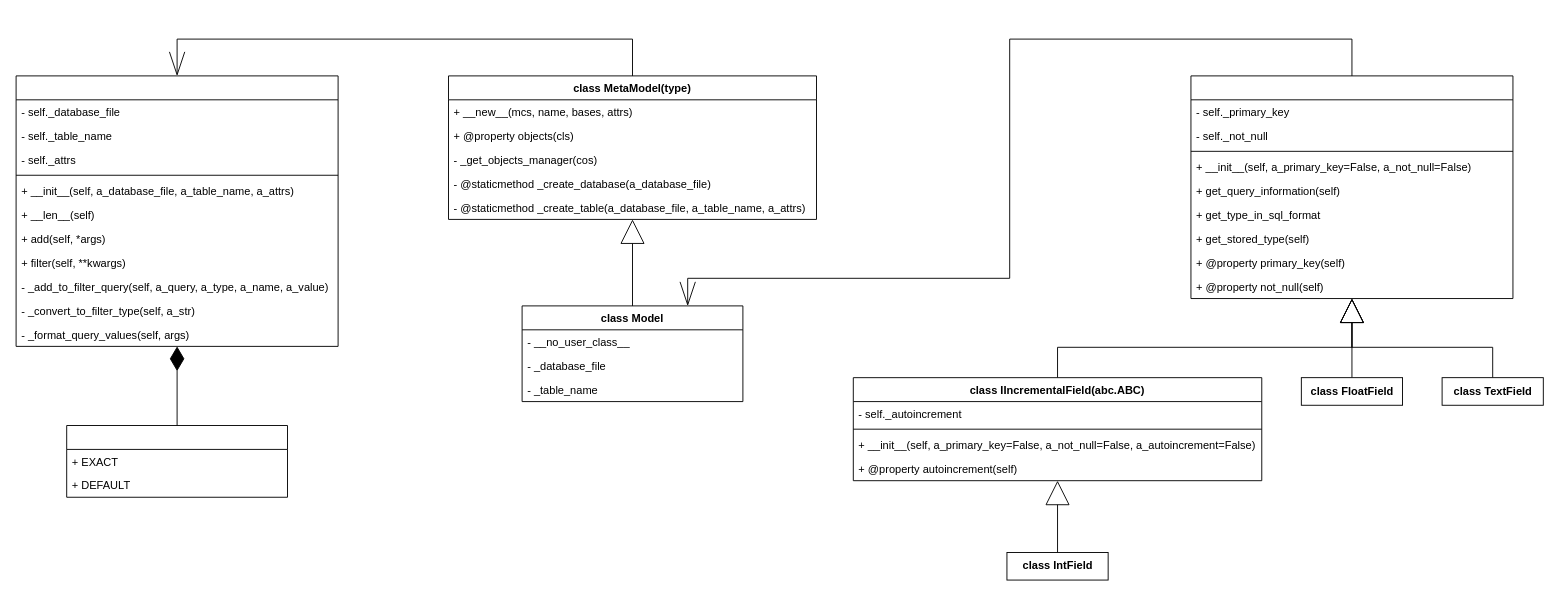
The diagram is 1559 pixels wide and 596 high, and some of its shapes have lost their labels. The box of each missing label's shape, as (x1, y1, x2, y2) in pixels:
class BaseObjectsManager: (15, 75, 338, 346)
class FilterSuffixType(str, Enum): (66, 425, 288, 497)
class IField(abc.ABC): (1190, 75, 1513, 299)
